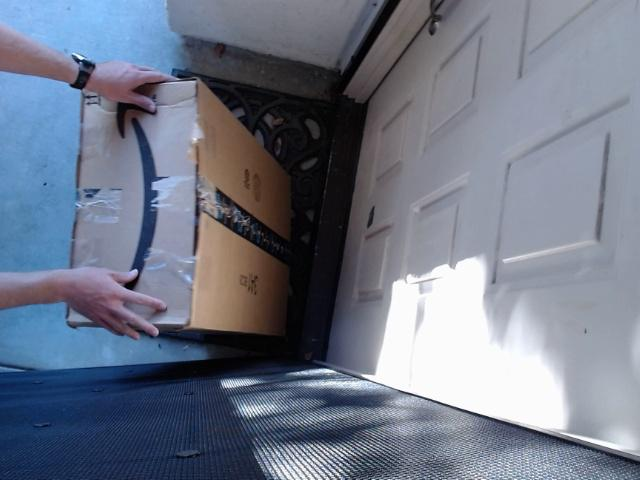box: (43, 55, 354, 337)
